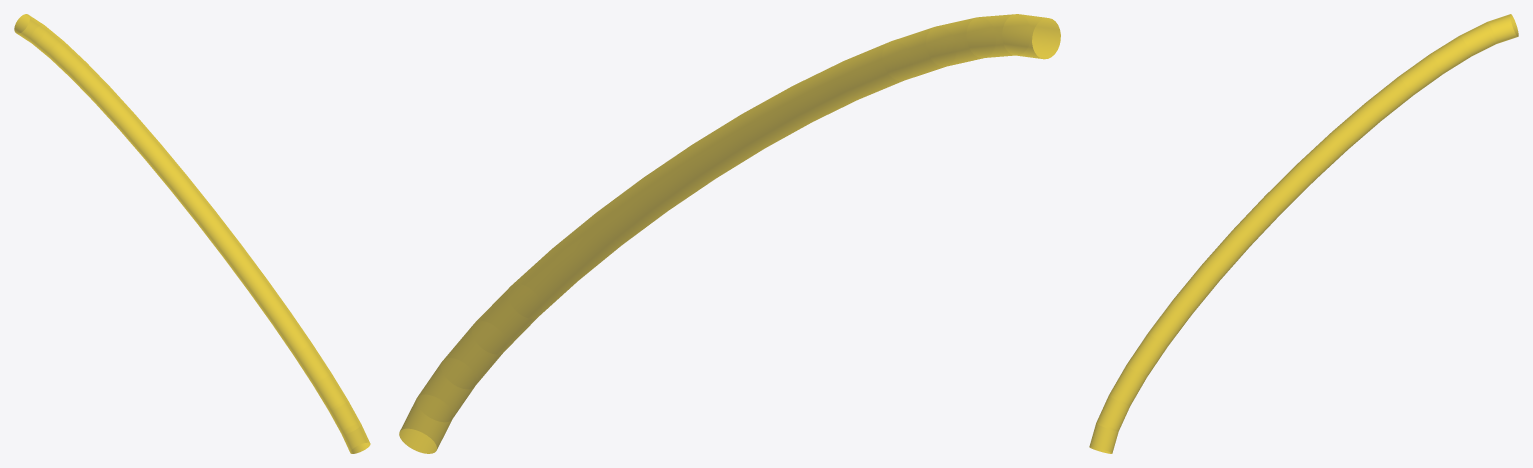
Rendered from Event_419990632_track_58.fbx.
3 views of the same model, side by side, from view 1: azimuth 30°, elevation 25°; view 2: azimuth 210°, elevation 25°; view 3: azimuth 270°, elevation 25° (orthographic). The views are drawn at different scales.
Visible parts, largest first — view 1: Model; view 2: Model; view 3: Model.
Boxes of the visible parts, x1,y1,x2,y2 form: Model: (14,14,370,453); Model: (399,14,1060,453); Model: (1089,14,1518,453).
Bounding box in the file's own units: 0.3424 × 0.6605 × 0.7096.
